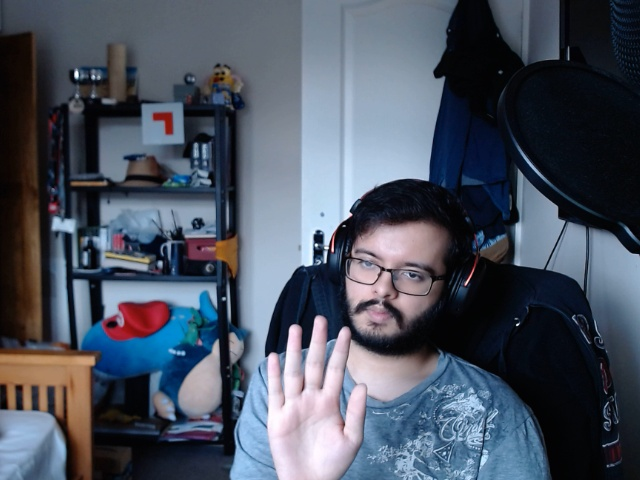Hello: (252, 313, 369, 479)
